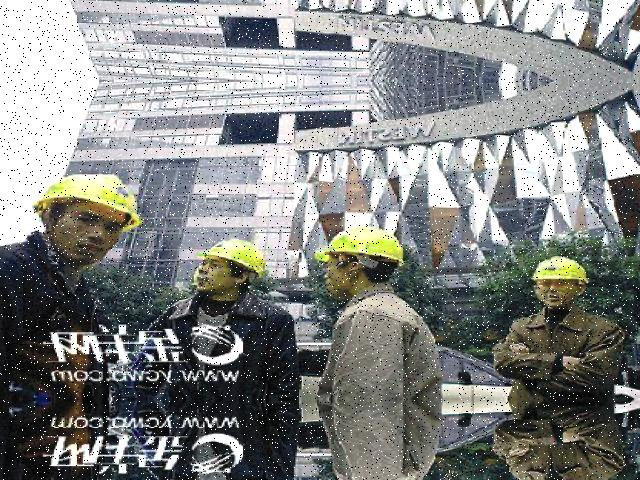Helmet: (31, 167, 154, 236), (314, 224, 414, 269), (194, 234, 274, 282), (530, 249, 598, 289)
